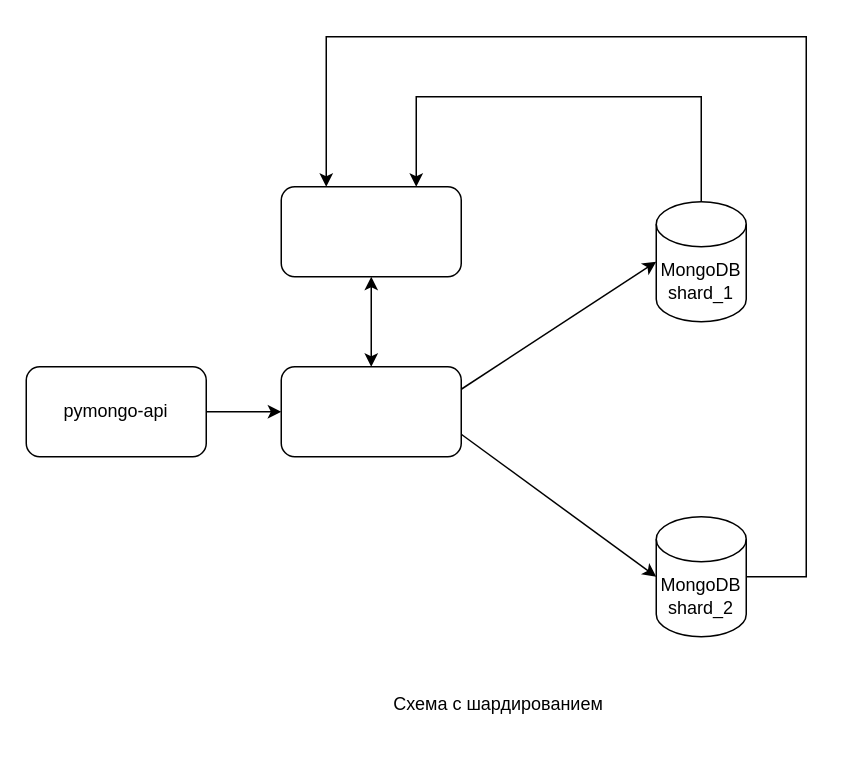
The diagram is 845 pixels wide and 768 high, and some of its shapes have lost their labels. Here are the shapes that lost their labels. From the top down, the centre of each, then its label:
At (x=370, y=231): "config server".
At (x=370, y=411): "router".
